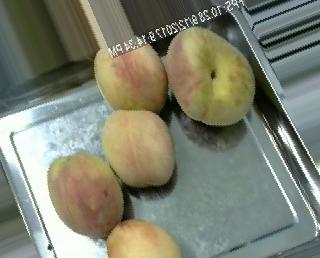Peach: (164, 26, 253, 124), (45, 152, 123, 238), (102, 109, 174, 190), (94, 42, 167, 115), (105, 216, 182, 258)
